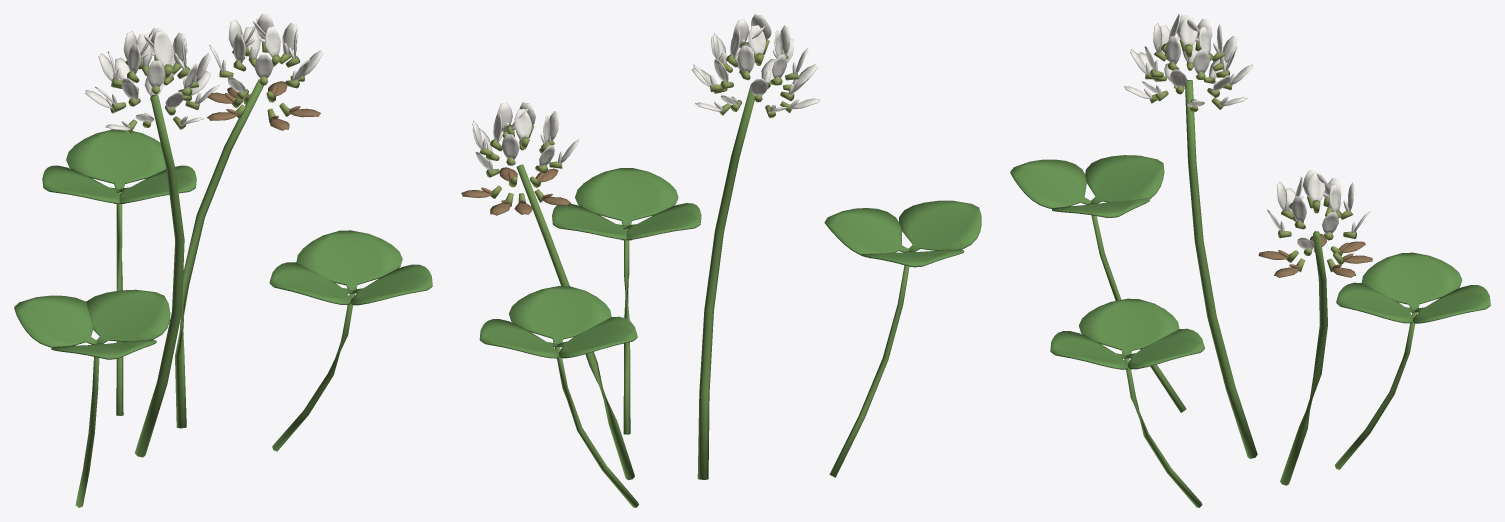
Rendered from flower-trifolium-low.glb.
The picture shows the model from 3 angles, left to right: view 1: azimuth 30°, elevation 25°; view 2: azimuth 150°, elevation 25°; view 3: azimuth 270°, elevation 25°; orthographic projection. The views are drawn at different scales.
Visible parts, largest first — view 1: leaves, stalks, head_florets, old_head_florets, hero_petals; view 2: leaves, stalks, head_florets, old_head_florets; view 3: leaves, stalks, head_florets, old_head_florets.
Boxes of the visible parts, x1,y1,x2,y2 form: leaves: [14, 129, 432, 507]; stalks: [135, 79, 263, 457]; head_florets: [85, 28, 219, 133]; old_head_florets: [207, 14, 323, 130]; hero_petals: [153, 30, 173, 66]; leaves: [479, 168, 981, 507]; stalks: [516, 84, 754, 480]; head_florets: [691, 19, 819, 118]; old_head_florets: [461, 102, 578, 215]; leaves: [1010, 155, 1490, 507]; stalks: [1185, 80, 1327, 485]; head_florets: [1124, 15, 1252, 112]; old_head_florets: [1258, 170, 1372, 277].
Bounding box in the file's own units: 8.18 × 8.99 × 9.04.
